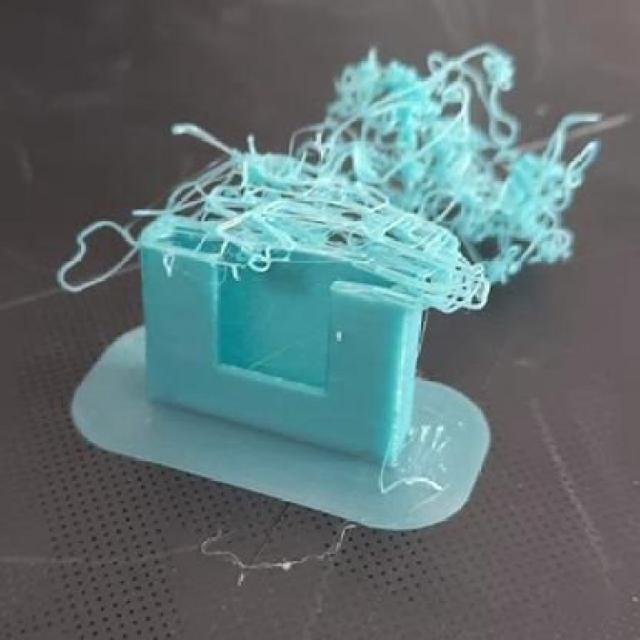spaghetti: (288, 38, 634, 316), (54, 114, 290, 300)
